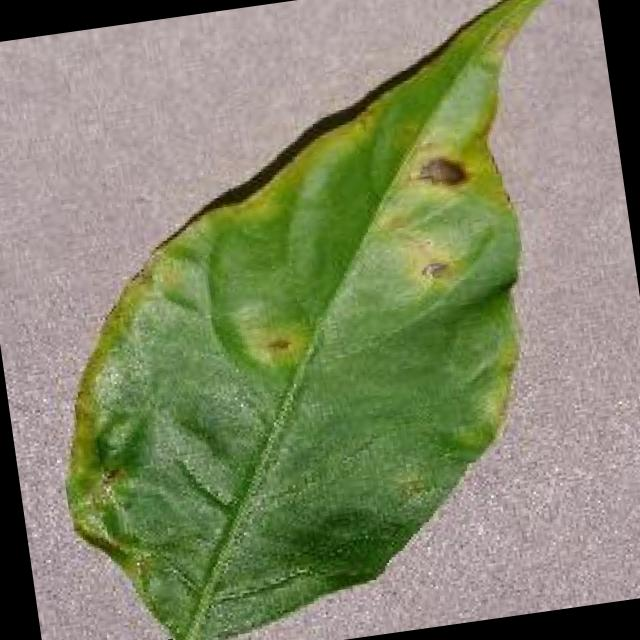Chilli_Bacterial_Spot: (0, 0, 640, 640), (188, 135, 518, 385), (368, 142, 495, 300), (234, 314, 314, 376), (410, 148, 470, 196), (256, 328, 298, 364), (414, 253, 456, 286)
